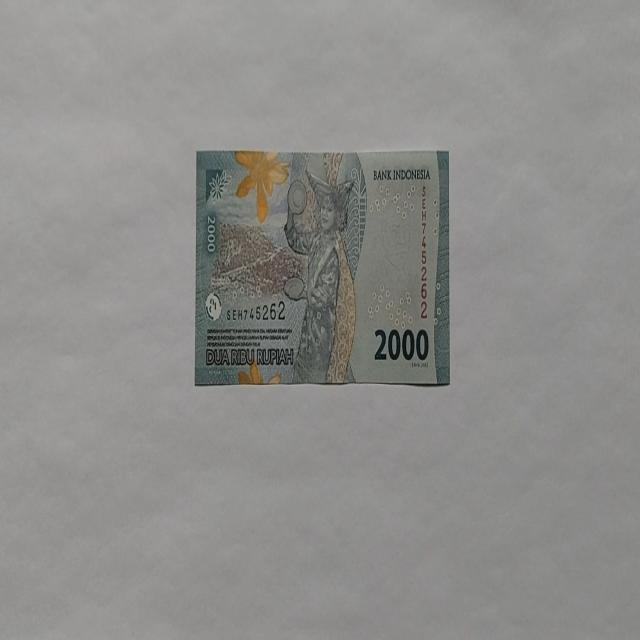dua ribu rupiah: (194, 148, 451, 386), (282, 168, 357, 384), (234, 148, 288, 224)
